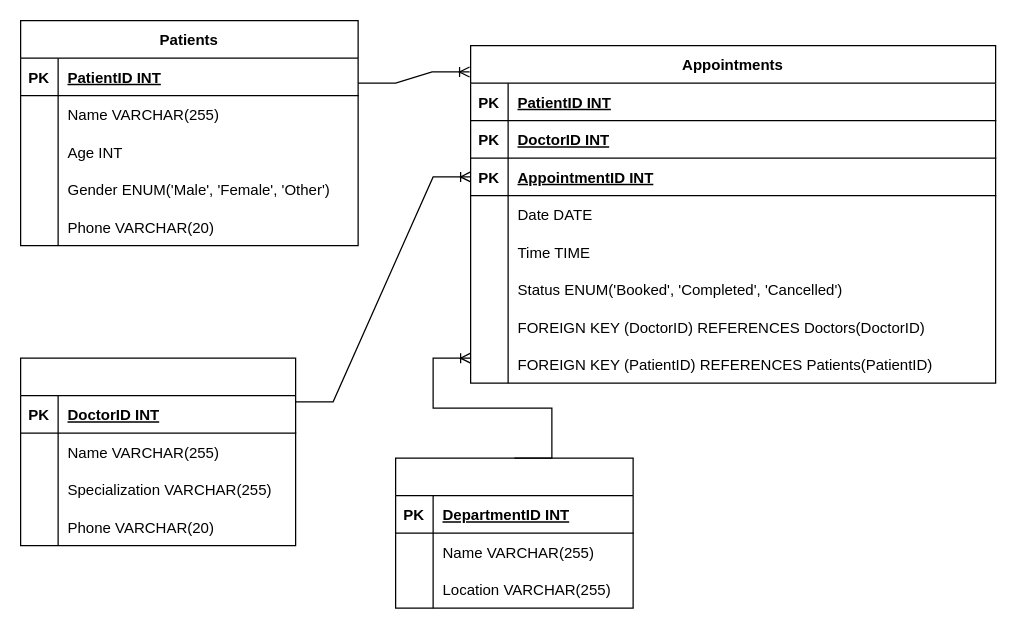
This 1016x629 diagram has some shape labels left out. Here are the shapes that lost their labels. From the top down, the box of each, then its label:
(19, 357, 296, 546): Doctors
(394, 457, 633, 608): Departments
